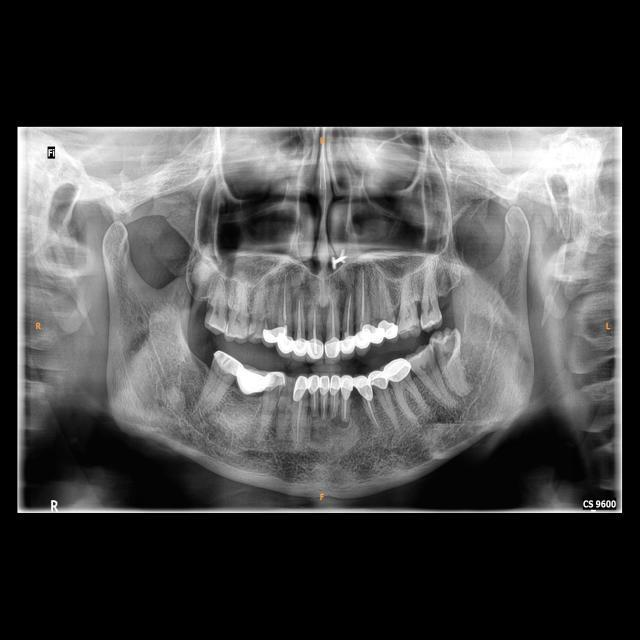dentin-curugu: (434, 334, 460, 366), (202, 301, 215, 322)
kanal-tedavisi: (354, 268, 369, 325), (326, 298, 339, 336), (294, 298, 306, 339), (342, 294, 354, 335), (281, 278, 289, 329), (309, 301, 319, 339)
kaplama: (213, 352, 242, 374), (386, 358, 413, 381), (354, 373, 375, 399), (370, 371, 391, 390), (292, 376, 308, 399), (355, 326, 371, 349), (340, 372, 353, 400), (380, 320, 399, 339), (268, 369, 285, 390), (308, 339, 324, 359), (340, 336, 355, 356), (325, 338, 340, 357), (264, 327, 284, 341), (278, 338, 294, 355), (318, 374, 329, 397), (293, 337, 307, 354), (370, 325, 382, 343), (307, 376, 319, 394), (329, 374, 340, 393)
kopru: (236, 362, 266, 404)
